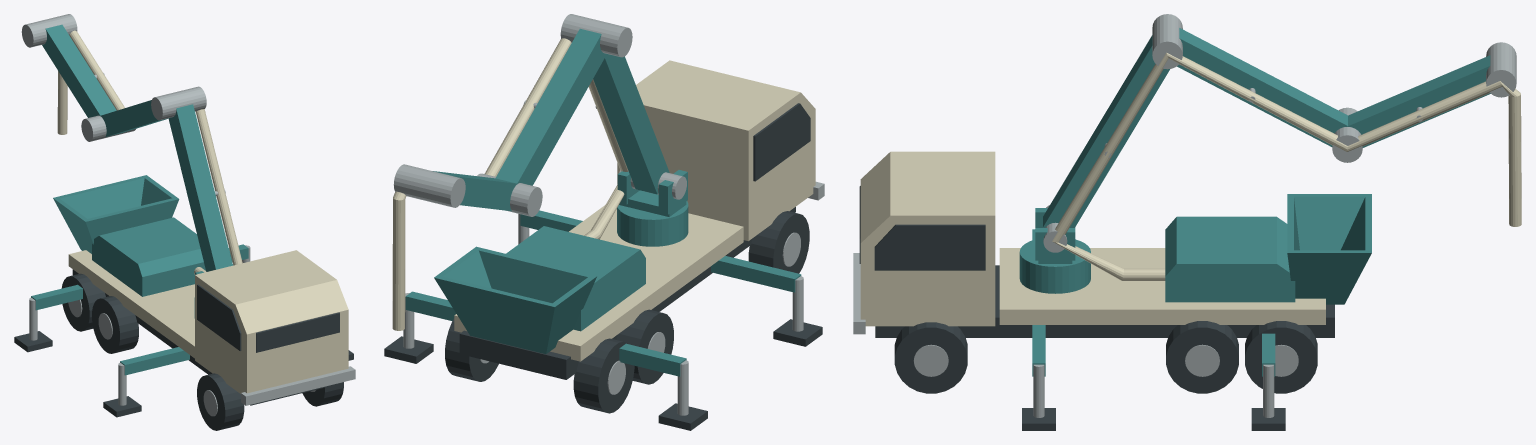
The picture shows the model from 3 angles, left to right: view 1: azimuth 30°, elevation 25°; view 2: azimuth 150°, elevation 25°; view 3: azimuth 270°, elevation 25°; orthographic projection. The views are drawn at different scales.
Parts seen in each view (by area): view 1: WholeForwardChamferedCab, WholeRearPumpCasing, WholeDeepOpenRearReceivingHopper, WholeZFoldBoomMember0, WholeLongRearPumpDeck, WholeContinuousBentDeliveryTube, WholeZFoldBoomMember2, WholeLeftRoadTyre1, WholeLeftRoadTyre0, WholeOpaqueFrontWindscreen, WholeLeftOpaqueCabWindow, WholeFrontBumper (+13 smaller); view 2: WholeForwardChamferedCab, WholeDeepOpenRearReceivingHopper, WholeLongRearPumpDeck, WholeRearPumpCasing, WholeZFoldBoomMember1, WholeContinuousBentDeliveryTube, WholeZFoldBoomMember0, WholeLongTruckChassis, WholeLeftRoadTyre2, WholeLeftOpaqueCabWindow, WholeFrontBoomPedestal, WholeLeftRoadTyre0 (+20 smaller); view 3: WholeForwardChamferedCab, WholeLongRearPumpDeck, WholeRearPumpCasing, WholeContinuousBentDeliveryTube, WholeDeepOpenRearReceivingHopper, WholeRightOpaqueCabWindow, WholeZFoldBoomMember1, WholeZFoldBoomMember0, WholeLongTruckChassis, WholeZFoldBoomMember2, WholeRightRoadTyre1, WholeRightRoadTyre0 (+14 smaller).
Part boxes in pixels (left/top/right/bottom): WholeForwardChamferedCab: left=195, top=250, right=348, bottom=393; WholeRearPumpCasing: left=92, top=217, right=205, bottom=296; WholeDeepOpenRearReceivingHopper: left=53, top=175, right=179, bottom=253; WholeZFoldBoomMember0: left=168, top=104, right=232, bottom=271; WholeLongRearPumpDeck: left=68, top=250, right=194, bottom=358; WholeContinuousBentDeliveryTube: left=57, top=30, right=242, bottom=274; WholeZFoldBoomMember2: left=42, top=24, right=116, bottom=117; WholeLeftRoadTyre1: left=92, top=296, right=138, bottom=353; WholeLeftRoadTyre0: left=197, top=373, right=244, bottom=430; WholeOpaqueFrontWindscreen: left=256, top=312, right=339, bottom=352; WholeLeftOpaqueCabWindow: left=197, top=284, right=241, bottom=350; WholeFrontBumper: left=241, top=366, right=355, bottom=405; WholeForwardChamferedCab: left=617, top=60, right=815, bottom=241; WholeDeepOpenRearReceivingHopper: left=434, top=246, right=597, bottom=353; WholeLongRearPumpDeck: left=454, top=205, right=743, bottom=361; WholeRearPumpCasing: left=506, top=226, right=645, bottom=331; WholeZFoldBoomMember1: left=496, top=28, right=606, bottom=185; WholeContinuousBentDeliveryTube: left=392, top=38, right=628, bottom=330; WholeZFoldBoomMember0: left=593, top=54, right=669, bottom=194; WholeLongTruckChassis: left=459, top=207, right=795, bottom=379; WholeLeftRoadTyre2: left=573, top=338, right=634, bottom=413; WholeLeftOpaqueCabWindow: left=753, top=103, right=810, bottom=181; WholeFrontBoomPedestal: left=617, top=201, right=688, bottom=246; WholeLeftRoadTyre0: left=748, top=211, right=809, bottom=273; WholeForwardChamferedCab: left=860, top=151, right=995, bottom=326; WholeLongRearPumpDeck: left=999, top=248, right=1325, bottom=324; WholeRearPumpCasing: left=1165, top=216, right=1295, bottom=302; WholeContinuousBentDeliveryTube: left=1052, top=52, right=1521, bottom=280; WholeDeepOpenRearReceivingHopper: left=1287, top=194, right=1371, bottom=304; WholeRightOpaqueCabWindow: left=874, top=224, right=985, bottom=270; WholeZFoldBoomMember1: left=1177, top=28, right=1347, bottom=146; WholeZFoldBoomMember0: left=1043, top=35, right=1169, bottom=227; WholeLongTruckChassis: left=875, top=265, right=1334, bottom=337; WholeZFoldBoomMember2: left=1348, top=55, right=1490, bottom=147; WholeRightRoadTyre1: left=1166, top=321, right=1238, bottom=393; WholeRightRoadTyre0: left=894, top=322, right=967, bottom=393.
Size of the model in its own units: 4.76 by 4.88 by 8.99.
